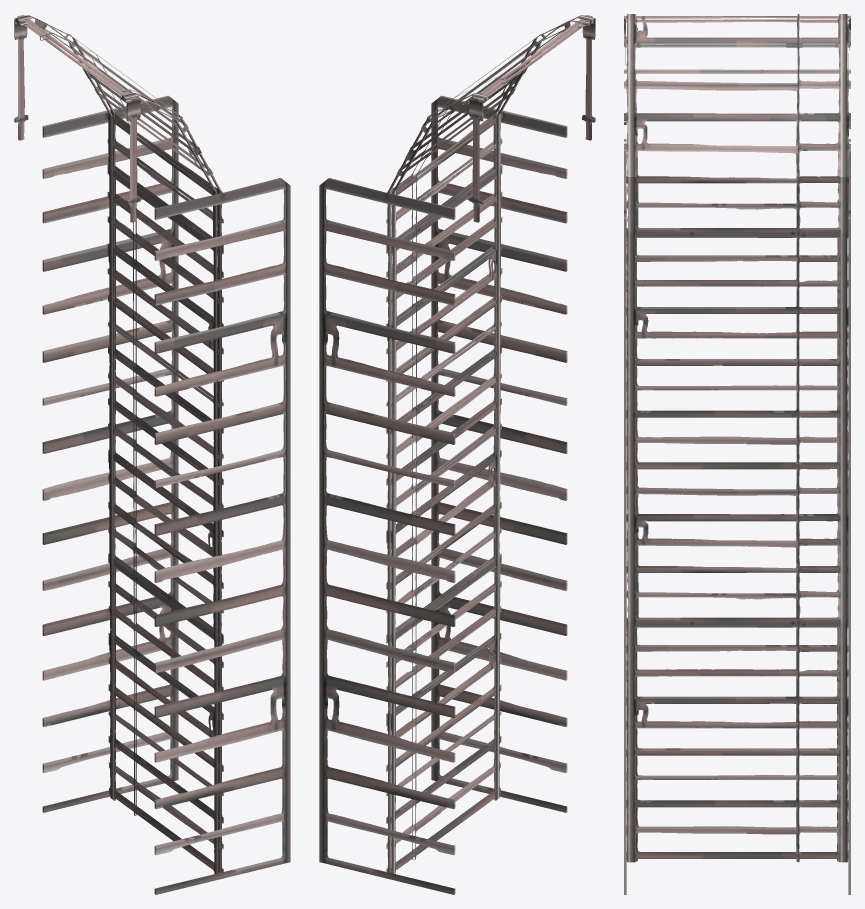
Rendered from yk_katto_lvi_tikkaat.fbx.
The picture shows the model from 3 angles, left to right: view 1: azimuth 30°, elevation 25°; view 2: azimuth 150°, elevation 25°; view 3: azimuth 270°, elevation 25°; orthographic projection.
Parts seen in each view (by area): view 1: YK_HD_LOWPOLY_TIKKAAT; view 2: YK_HD_LOWPOLY_TIKKAAT; view 3: YK_HD_LOWPOLY_TIKKAAT.
Boxes of the visible parts, x1,y1,x2,y2 form: YK_HD_LOWPOLY_TIKKAAT: [14, 15, 290, 894]; YK_HD_LOWPOLY_TIKKAAT: [319, 15, 595, 894]; YK_HD_LOWPOLY_TIKKAAT: [624, 14, 850, 894].
Size of the model in its own units: 44.56 by 209 by 53.67.
